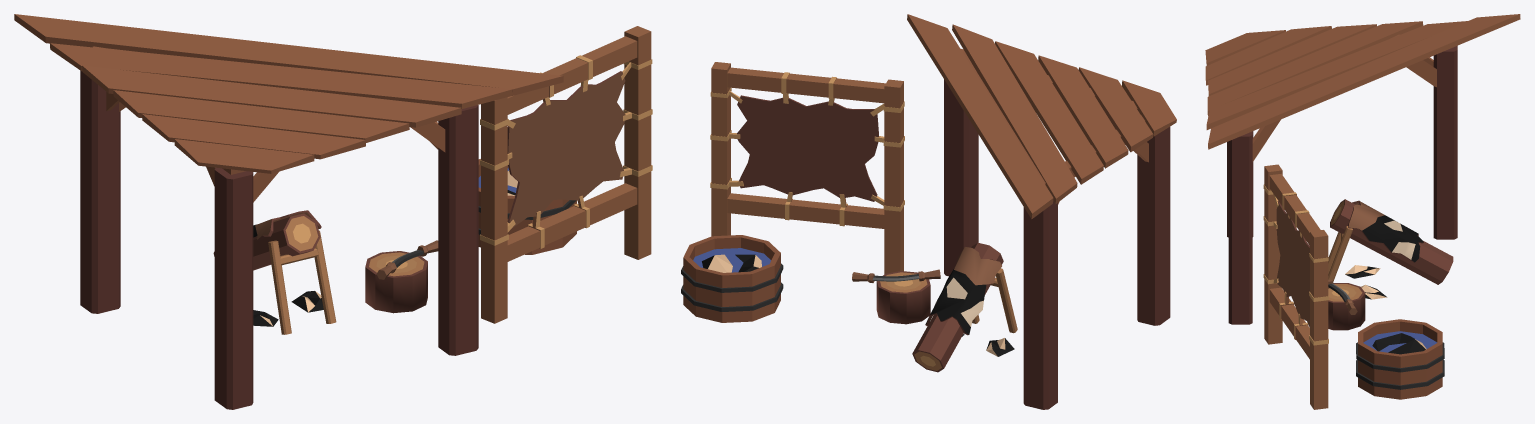
File: leather_brovary_1.fbx
3 renders of one model, left to right at view 1: azimuth 30°, elevation 25°; view 2: azimuth 150°, elevation 25°; view 3: azimuth 270°, elevation 25°, orthographic. The views are drawn at different scales.
Parts seen in each view (by area): view 1: shelter roof, leather_on_frame, pillars_shelter.001, stump.001, stand, Deck, barrel_with_leather, knife_for_leather; view 2: leather_on_frame, shelter roof, pillars_shelter.001, barrel_with_leather, cow_leather, stump.001, Deck, Icosphere, stand, knife_for_leather; view 3: shelter roof, leather_on_frame, pillars_shelter.001, barrel_with_leather, Deck, cow_leather, stump.001, Icosphere, stand, Icosphere.002, knife_for_leather.
Part boxes in pixels (<box>): shelter roof: <box>14,14,563,173</box>; leather_on_frame: <box>480,26,652,323</box>; pillars_shelter.001: <box>80,46,478,409</box>; stump.001: <box>365,251,427,313</box>; stand: <box>268,230,336,334</box>; Deck: <box>213,213,320,270</box>; barrel_with_leather: <box>478,159,576,254</box>; knife_for_leather: <box>376,240,438,279</box>; leather_on_frame: <box>710,62,904,274</box>; shelter roof: <box>907,14,1176,219</box>; pillars_shelter.001: <box>944,48,1170,409</box>; barrel_with_leather: <box>681,235,783,322</box>; cow_leather: <box>925,247,1001,335</box>; stump.001: <box>876,271,930,324</box>; Deck: <box>912,242,1003,372</box>; Icosphere: <box>702,254,761,272</box>; stand: <box>972,268,1017,333</box>; knife_for_leather: <box>852,269,940,282</box>; shelter roof: <box>1205,14,1520,149</box>; leather_on_frame: <box>1263,164,1328,409</box>; pillars_shelter.001: <box>1227,34,1457,324</box>; barrel_with_leather: <box>1356,319,1444,399</box>; Deck: <box>1330,199,1453,284</box>; cow_leather: <box>1348,200,1423,262</box>; stump.001: <box>1328,283,1365,330</box>; Icosphere: <box>1372,333,1426,354</box>; stand: <box>1328,226,1352,281</box>; Icosphere.002: <box>1345,265,1380,278</box>; knife_for_leather: <box>1328,279,1357,314</box>.
Size of the model in its own units: 302 by 152 by 211.
